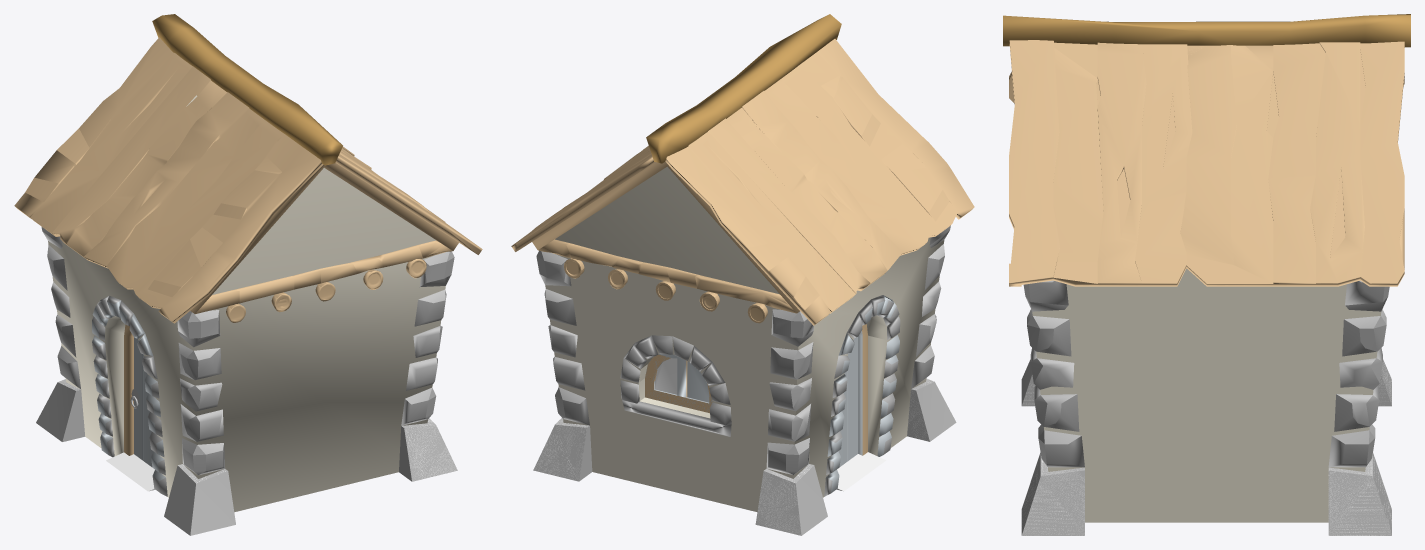
File: House.fbx
3 renders of one model, left to right at view 1: azimuth 30°, elevation 25°; view 2: azimuth 150°, elevation 25°; view 3: azimuth 270°, elevation 25°, orthographic. The views are drawn at different scales.
Parts seen in each view (by area): view 1: Roof1, G_2_1, G_18_1, CornStone3, StoneDoor1, CornStone4, G_1_1, Group6, Door1, G_1_2, CornStone1, G_1_3 (+1 smaller); view 2: Roof1, G_2_1, G_18_1, CornStone1, StoneDoor1, CornStone2, G_1_3, Group8, G_4_1, Window1, Door1, G_1_4 (+4 smaller); view 3: Roof1, G_2_1, G_18_1, CornStone4, CornStone2, G_1_4, G_1_2, G_1_1, G_1_3.
Boxes of the visible parts, x1,y1,x2,y2 form: Roof1: [14, 37, 482, 323]; G_2_1: [48, 241, 445, 512]; G_18_1: [152, 14, 342, 165]; CornStone3: [177, 310, 225, 475]; StoneDoor1: [92, 295, 167, 496]; CornStone4: [401, 251, 454, 425]; G_1_1: [164, 464, 235, 535]; Group6: [195, 240, 452, 314]; Door1: [124, 324, 153, 466]; G_1_2: [399, 418, 457, 481]; CornStone1: [41, 227, 80, 388]; G_1_3: [36, 379, 85, 441]; Roof1: [511, 39, 974, 325]; G_2_1: [545, 237, 944, 511]; G_18_1: [646, 14, 841, 163]; CornStone1: [766, 309, 813, 474]; StoneDoor1: [824, 295, 900, 496]; CornStone2: [536, 250, 589, 425]; G_1_3: [755, 464, 827, 535]; Group8: [538, 239, 796, 313]; G_4_1: [620, 335, 731, 425]; Window1: [645, 354, 712, 413]; Door1: [838, 324, 867, 466]; G_1_4: [533, 418, 592, 481]; Roof1: [1009, 40, 1404, 286]; G_2_1: [1032, 269, 1381, 522]; G_18_1: [1003, 14, 1410, 47]; CornStone4: [1023, 280, 1084, 467]; CornStone2: [1328, 280, 1389, 467]; G_1_4: [1328, 453, 1391, 535]; G_1_2: [1021, 452, 1084, 535]; G_1_1: [1021, 359, 1035, 406]; G_1_3: [1378, 359, 1391, 406].
Size of the model in its own units: 3348 by 3847 by 3217.
